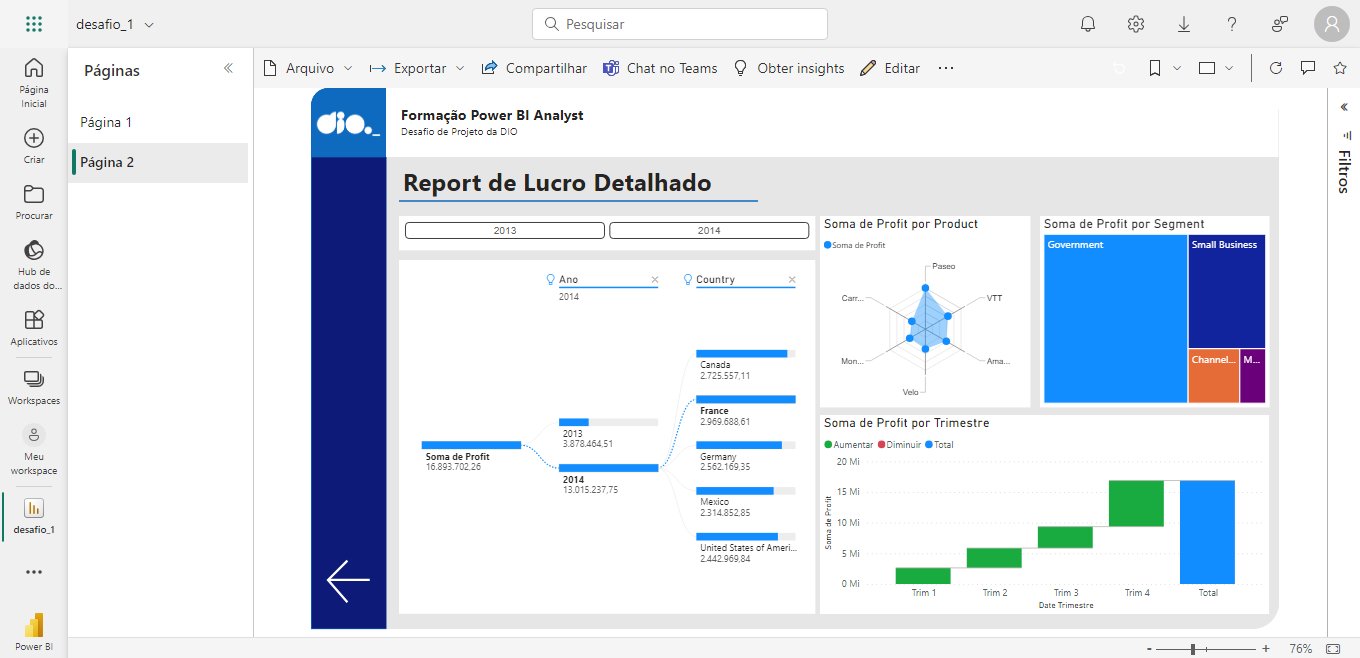

The dashboard page shown, as its layout file describes it:
{"tool":"powerbi","page":{"name":"Página 2","canvas":[1280,720],"ordinal":1},"visuals":[{"type":"shape","box":[25.8,0,1254.2,709.9],"z":0},{"type":"shape","box":[125.4,127.1,470.9,41.8],"z":0,"group":"g1"},{"type":"textbox","box":[125.4,93.9,424.8,53.3],"z":1000,"group":"g1"},{"type":"shape","box":[10.1,0,99.4,709.9],"z":1000},{"type":"shape","box":[10.1,0,99.8,91.3],"z":2000},{"type":"image","title":"Dio_logo","box":[13.5,0,93,93],"z":3000},{"type":"shape","box":[109.3,0,1170.7,90.7],"z":4000},{"type":"textbox","box":[123.8,17.3,301,56.2],"z":5000},{"type":"group","id":"g1","title":"Título","box":[125.4,93.9,470.9,75],"z":6000},{"type":"waterfallChart","fields":{"Category":["financials.Date.Variation.Hierarquia de datas.Trimestre"],"Y":["Sum(financials.Profit)"]},"box":[678.2,429.1,589,260.6],"z":7000},{"type":"RadarChart1446119667547","fields":{"Y":["Sum(financials.Profit)"],"Category":["financials.Product"]},"box":[678.2,168.5,276.5,250.6],"z":8000},{"type":"ChicletSlicer1448559807354","fields":{"Category":["financials.Date.Variation.Hierarquia de datas.Ano"]},"box":[125.3,168.5,545.8,44.6],"z":9000},{"type":"treemap","fields":{"Group":["financials.Segment"],"Values":["Sum(financials.Profit)"]},"box":[966.2,168.5,301,250.6],"z":10000},{"type":"decompositionTreeVisual","fields":{"Analyze":["Sum(financials.Profit)"],"ExplainBy":["financials.Date.Variation.Hierarquia de datas.Ano","financials.Country"]},"box":[125.3,226.1,545.8,463.7],"z":10001},{"type":"actionButton","box":[24.5,606.2,70.6,83.5],"z":10002}]}

Visuals, with their boxes on the page's 1280x720 design canvas (x1, y1, x2, y2). These are canvas units, not pixel positions in the 1360x658 screenshot, which may show the page scaled, cropped or inside an application window:
shape: Rect(26, 0, 1280, 710)
shape: Rect(125, 127, 596, 169)
textbox: Rect(125, 94, 550, 147)
shape: Rect(10, 0, 110, 710)
shape: Rect(10, 0, 110, 91)
"Dio_logo" image: Rect(14, 0, 106, 93)
shape: Rect(109, 0, 1280, 91)
textbox: Rect(124, 17, 425, 74)
"Título" group: Rect(125, 94, 596, 169)
waterfallChart - financials.Date.Variation.Hierarquia de datas.Trimestre x Sum(financials.Profit): Rect(678, 429, 1267, 690)
RadarChart1446119667547 - Sum(financials.Profit) x financials.Product: Rect(678, 168, 955, 419)
ChicletSlicer1448559807354 - financials.Date.Variation.Hierarquia de datas.Ano: Rect(125, 168, 671, 213)
treemap - financials.Segment x Sum(financials.Profit): Rect(966, 168, 1267, 419)
decompositionTreeVisual - Sum(financials.Profit) x financials.Date.Variation.Hierarquia de datas.Ano: Rect(125, 226, 671, 690)
actionButton: Rect(24, 606, 95, 690)
